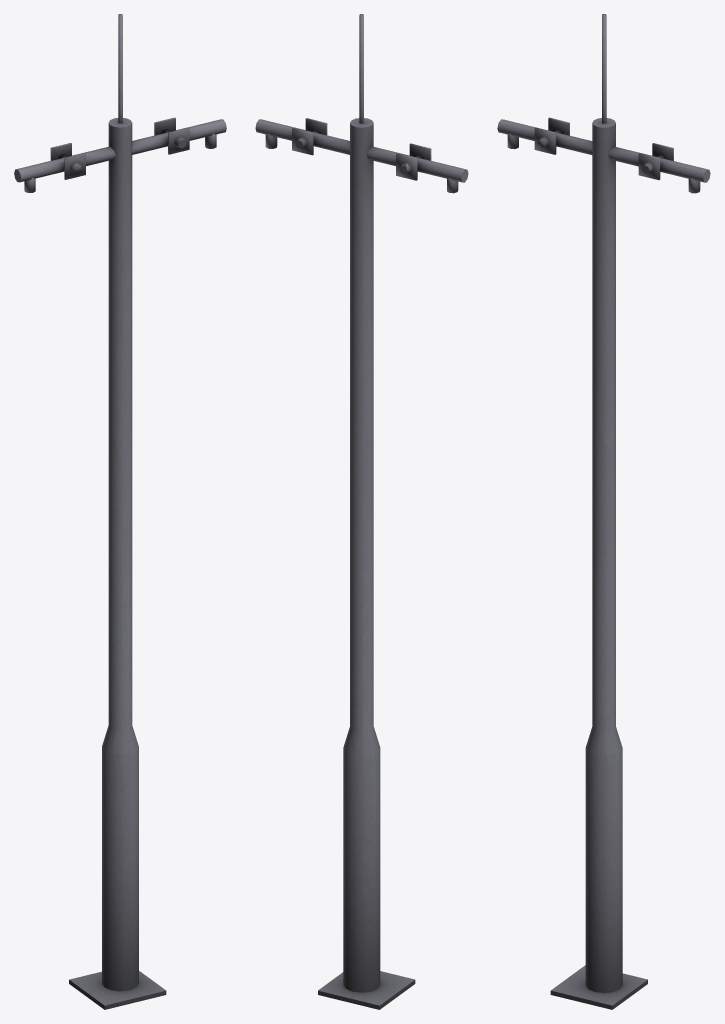
Rendered from ligan.gltf.
3 renders of one model, left to right at view 1: azimuth 30°, elevation 25°; view 2: azimuth 150°, elevation 25°; view 3: azimuth 330°, elevation 25°, orthographic.
Visible parts, largest first — view 1: LG; view 2: LG; view 3: LG.
Boxes of the visible parts, x1,y1,x2,y2 form: LG: (14, 14, 226, 1009); LG: (255, 14, 468, 1009); LG: (497, 14, 710, 1009).
Bounding box in the file's own units: 2 × 9.04 × 0.6.
1 material, 1 textured.
